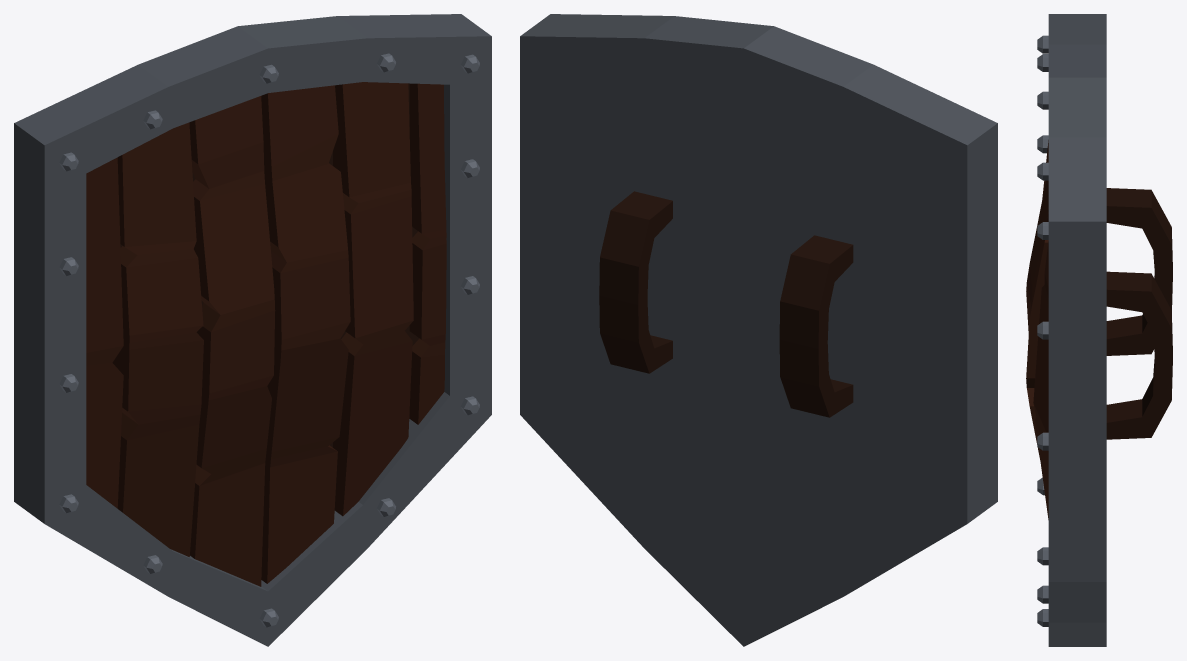
The model's file is Shield_Heater_2.obj.
3 views of the same model, side by side, from view 1: azimuth 30°, elevation 25°; view 2: azimuth 150°, elevation 25°; view 3: azimuth 270°, elevation 25° (orthographic). The views are drawn at different scales.
Visible parts, largest first — view 1: Shield_Heater_2_Cylinder.021; view 2: Shield_Heater_2_Cylinder.021; view 3: Shield_Heater_2_Cylinder.021.
Part boxes in pixels (x1,y1,x2,y2): Shield_Heater_2_Cylinder.021: (14,14,491,646); Shield_Heater_2_Cylinder.021: (520,14,997,646); Shield_Heater_2_Cylinder.021: (1026,14,1172,646).
Bounding box in the file's own units: 2.01 × 2.56 × 0.5987.
